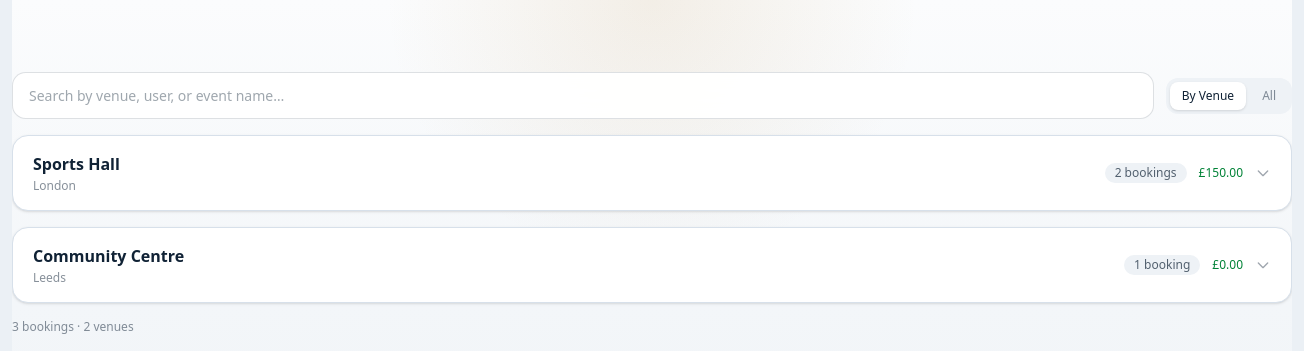
VenuesTab › shows a not-found message when search matches nothing
Type "nonexistent" into the field with placeholder "Search by venue, user, or event name…" at (583, 96), box x1=12 y1=72 x2=1154 y2=119
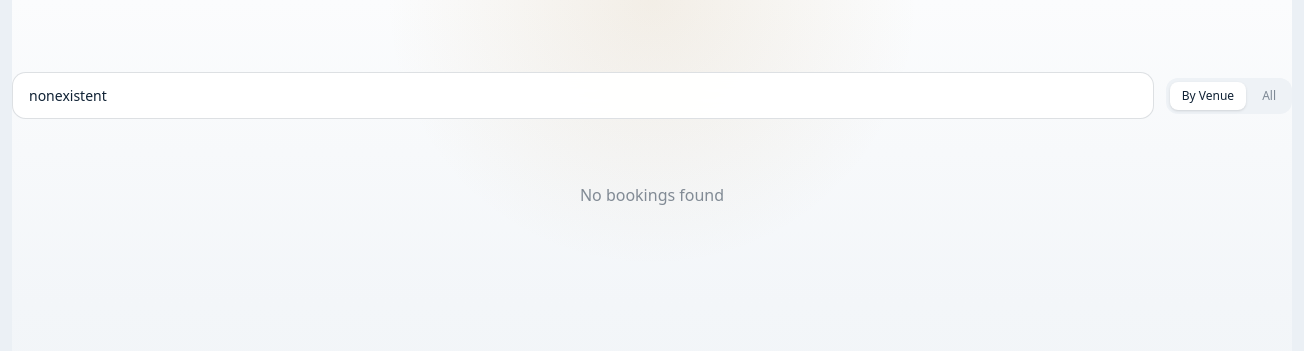
Now the text "No bookings found" is shown, box x1=580 y1=184 x2=724 y2=206
